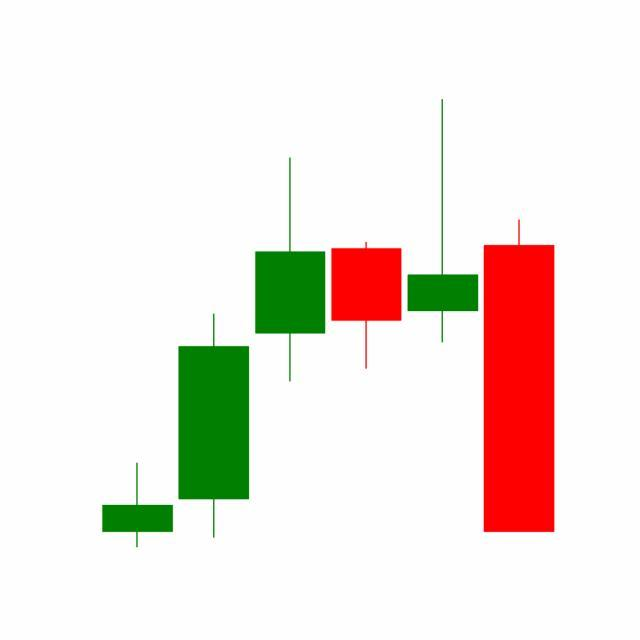Hikkake Pattern: (175, 100, 555, 544)
